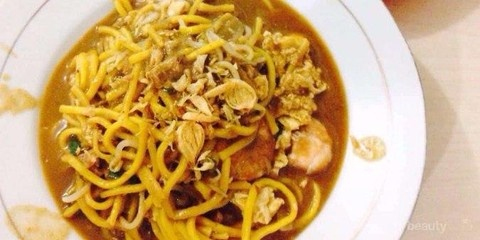mie_aceh: (42, 2, 348, 240)
